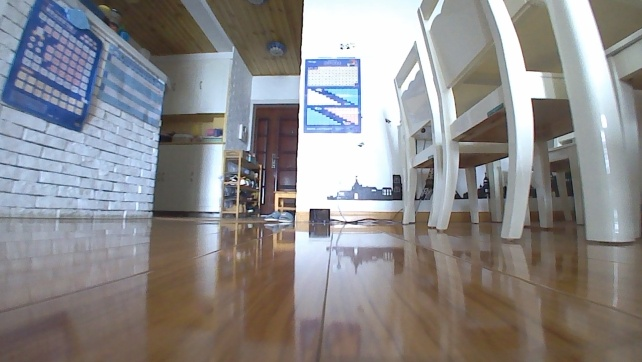dining_table1: (390, 0, 641, 247)
door_anno: (248, 99, 302, 219)
slipper: (276, 211, 295, 225), (263, 210, 279, 223)
wire: (330, 206, 404, 227)
